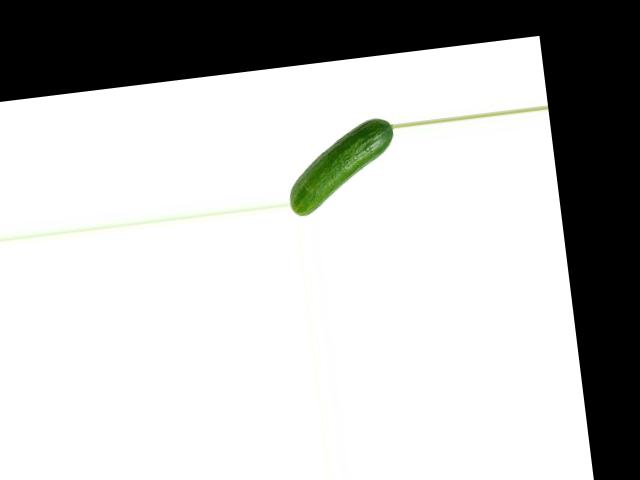cucumber: (280, 115, 403, 216)
